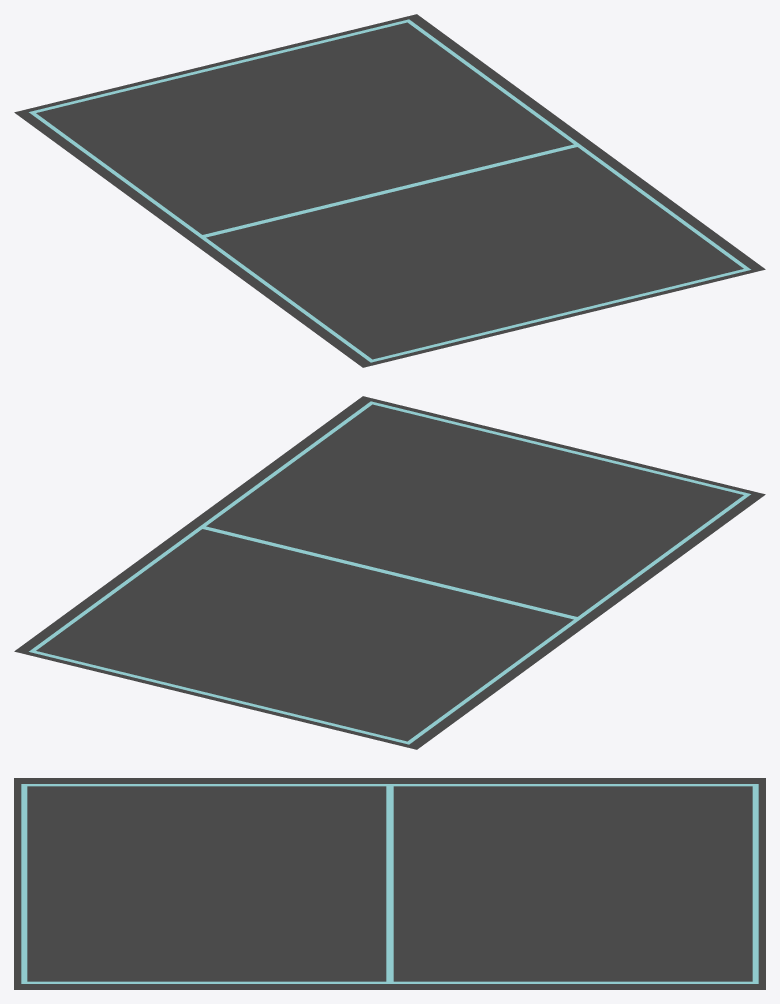
The model's file is ground.fbx.
The picture shows the model from 3 angles, top to bottom: view 1: azimuth 30°, elevation 25°; view 2: azimuth 150°, elevation 25°; view 3: azimuth 270°, elevation 25°; orthographic projection. The views are drawn at different scales.
Visible parts, largest first — view 1: Plane; view 2: Plane; view 3: Plane.
Boxes of the visible parts, x1,y1,x2,y2 form: Plane: (14,14,765,367); Plane: (14,396,765,749); Plane: (14,778,765,989).
Size of the model in its own units: 1600 by 5.68e-12 by 2400.
